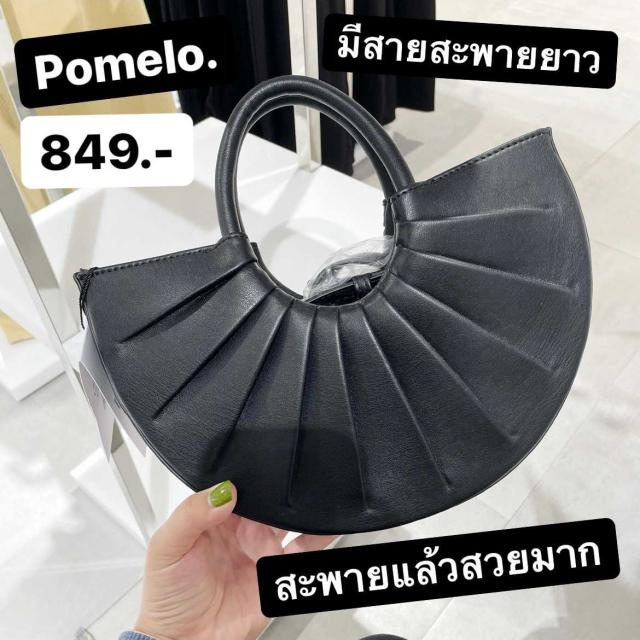handbag: (49, 112, 592, 582)
